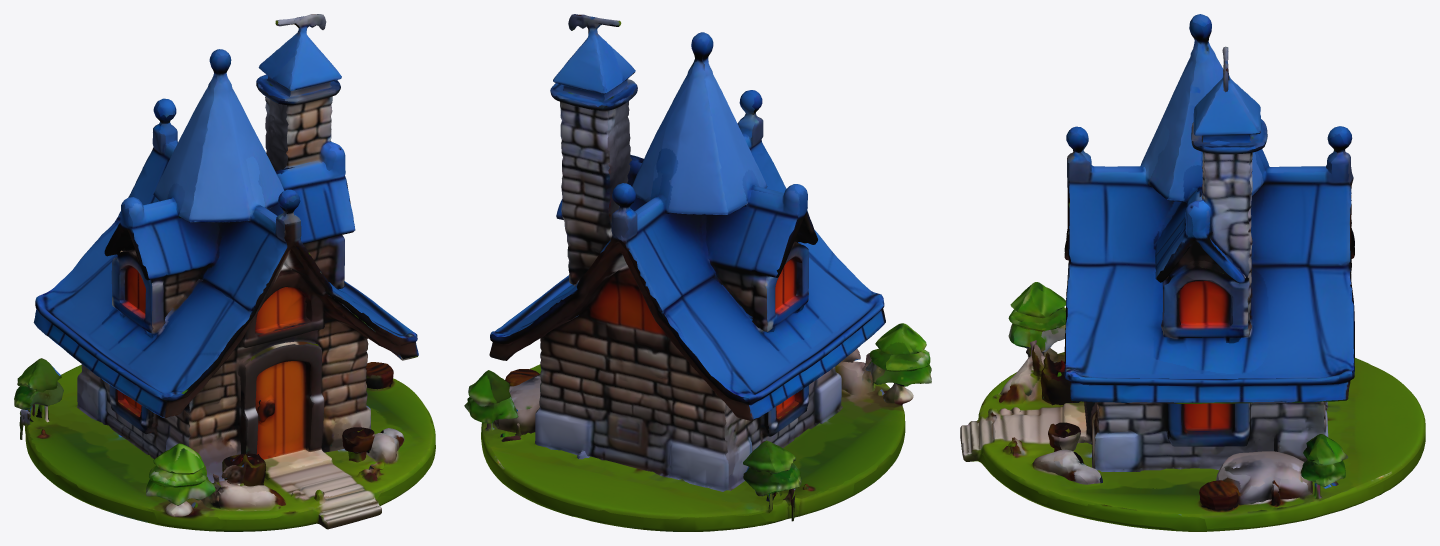
3 views of the same model, side by side, from view 1: azimuth 30°, elevation 25°; view 2: azimuth 150°, elevation 25°; view 3: azimuth 270°, elevation 25° (orthographic). The views are drawn at different scales.
Parts seen in each view (by area): view 1: tmpd8qq76ku.ply; view 2: tmpd8qq76ku.ply; view 3: tmpd8qq76ku.ply.
Boxes of the visible parts, x1,y1,x2,y2 form: tmpd8qq76ku.ply: (14,14,435,531); tmpd8qq76ku.ply: (464,14,931,531); tmpd8qq76ku.ply: (960,14,1425,531).
Size of the model in its own units: 1.84 by 1.99 by 1.97.
1 material, 1 textured.
